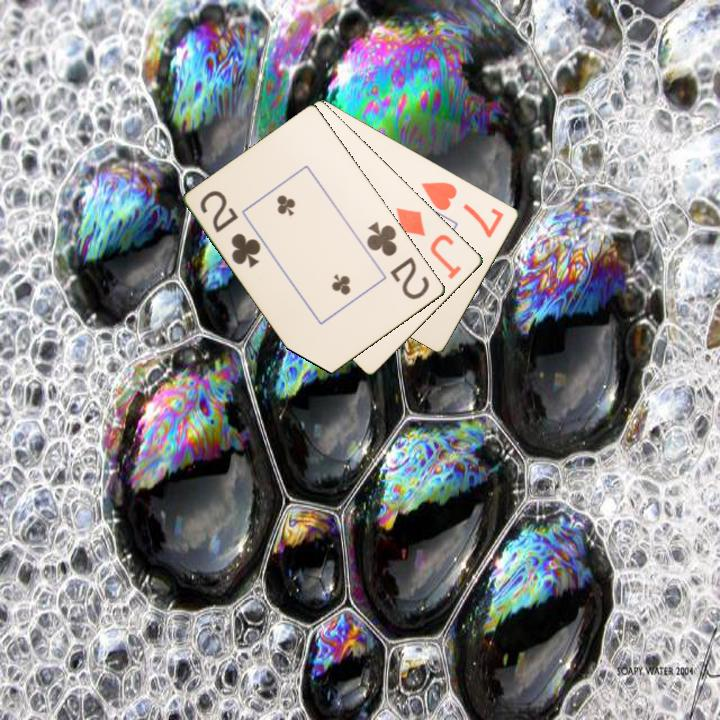2c: (363, 218, 433, 303), (197, 187, 264, 271)
7h: (418, 178, 507, 241)
Jd: (392, 204, 465, 282)
